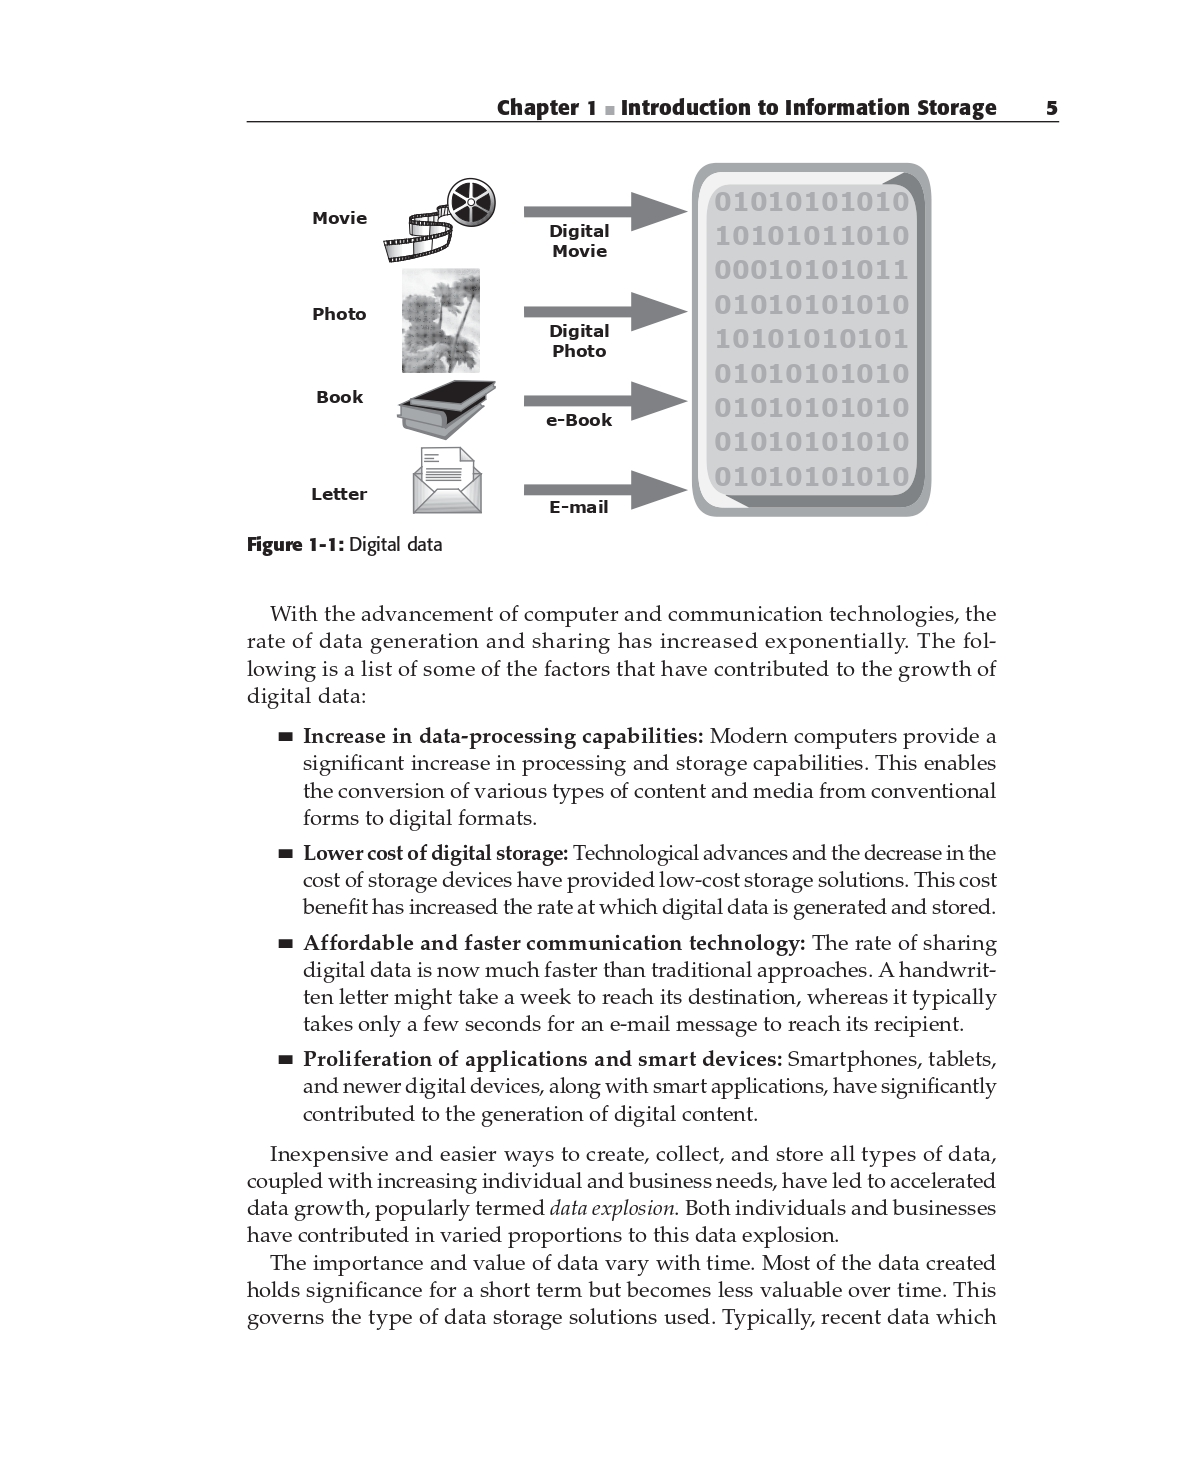Image: (365, 170, 958, 526)
Paragraph: (228, 1121, 1019, 1250), (257, 593, 1022, 707), (301, 928, 1013, 1040), (234, 1244, 1022, 1343), (295, 713, 996, 823), (295, 827, 1007, 922), (292, 1042, 1019, 1136)
